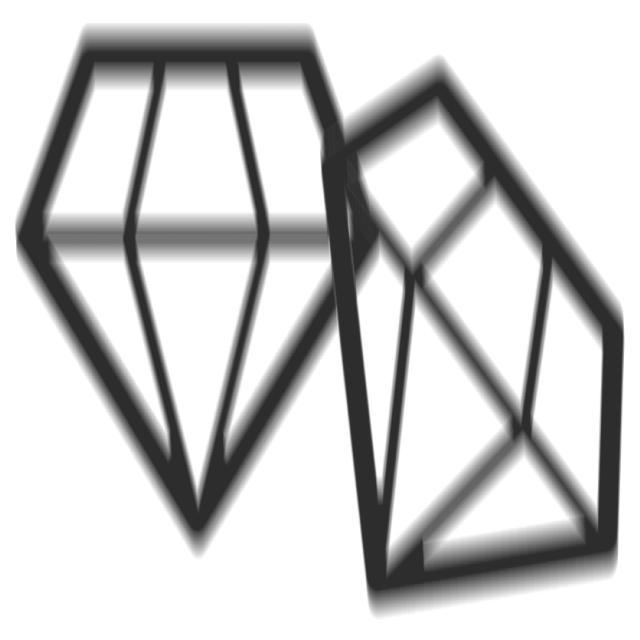diamond: (10, 20, 385, 567), (313, 47, 632, 628)
